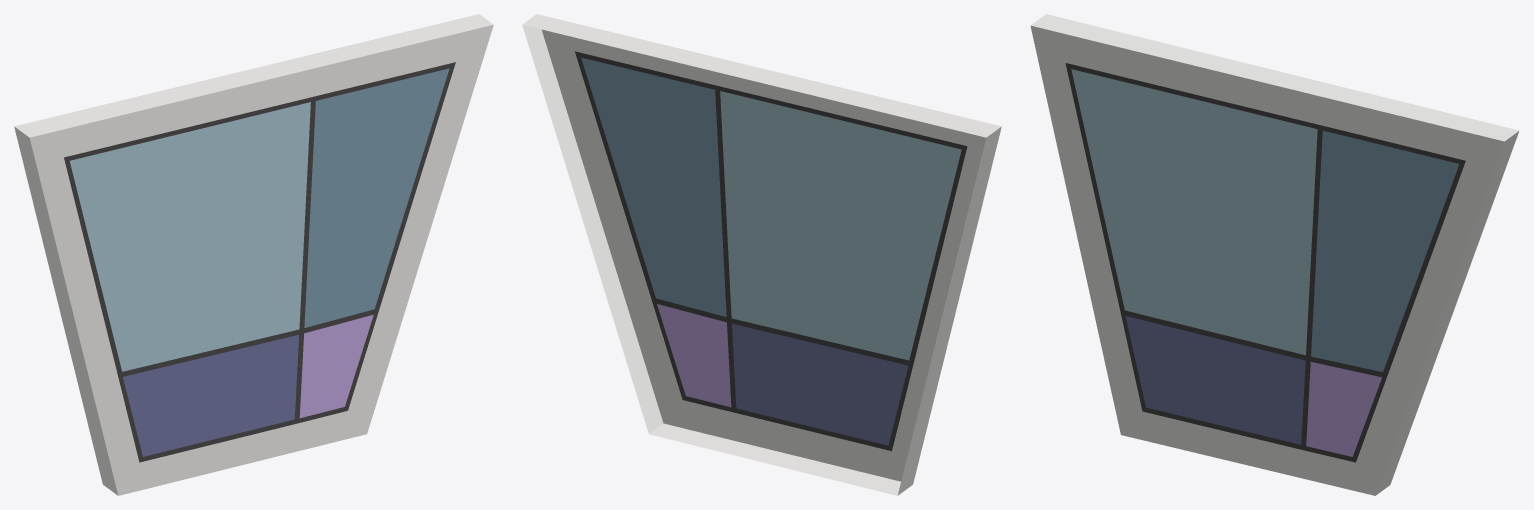
File: Picture_12.fbx
3 renders of one model, left to right at view 1: azimuth 30°, elevation 25°; view 2: azimuth 150°, elevation 25°; view 3: azimuth 330°, elevation 25°, orthographic.
Parts seen in each view (by area): view 1: Picture_12; view 2: Picture_12; view 3: Picture_12.
Boxes of the visible parts, x1,y1,x2,y2 form: Picture_12: [14, 14, 493, 495]; Picture_12: [522, 14, 1001, 495]; Picture_12: [1030, 14, 1519, 495].
Bounding box in the file's own units: 104 × 5.99 × 80.93.
